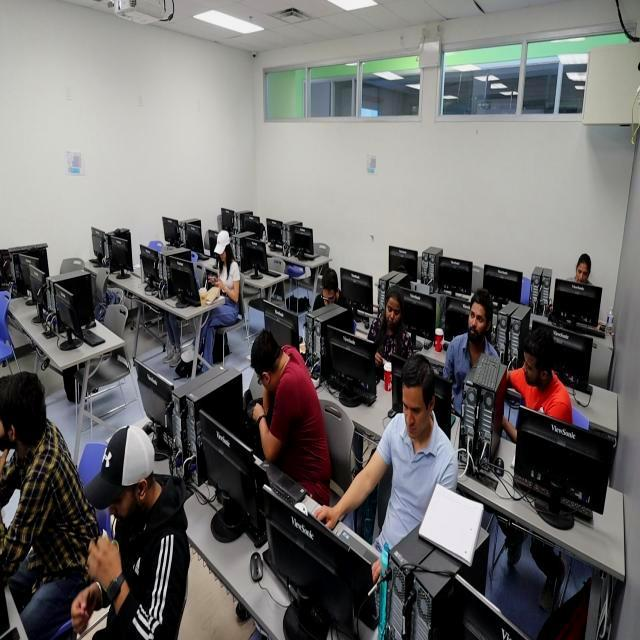Looking away: (86, 426, 160, 524), (250, 331, 286, 397), (399, 378, 434, 440), (521, 350, 545, 388), (384, 294, 403, 330), (320, 281, 340, 309), (576, 260, 590, 286)
Looking forward: (466, 300, 488, 342)
Phone use: (204, 229, 243, 304)
